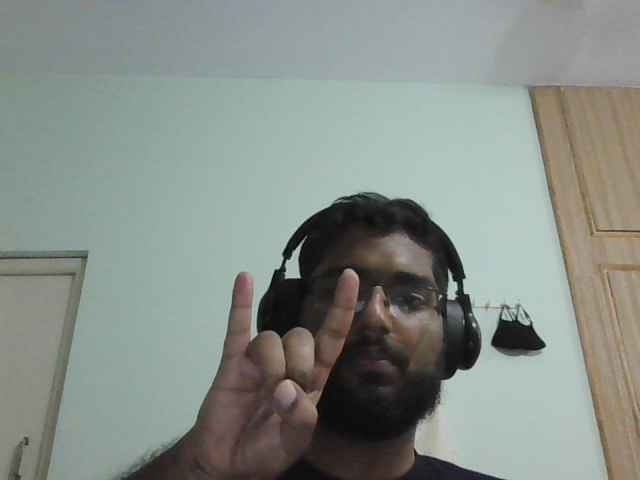I Love You: (177, 259, 376, 480)
